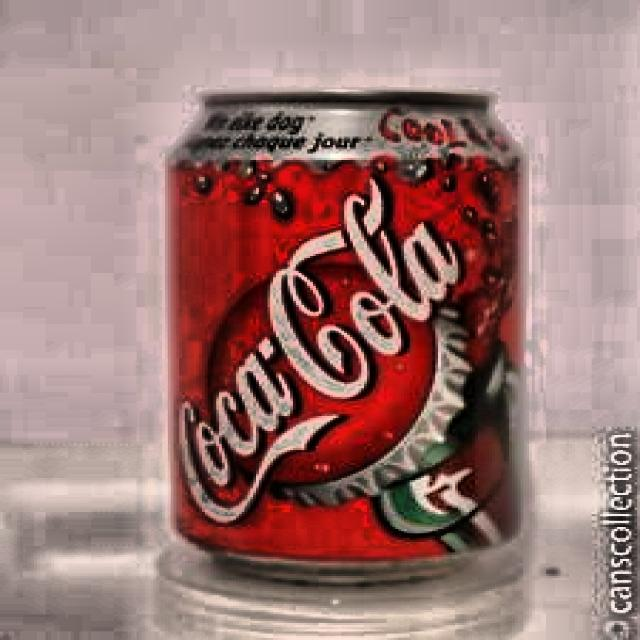Cans: (125, 66, 550, 588)
